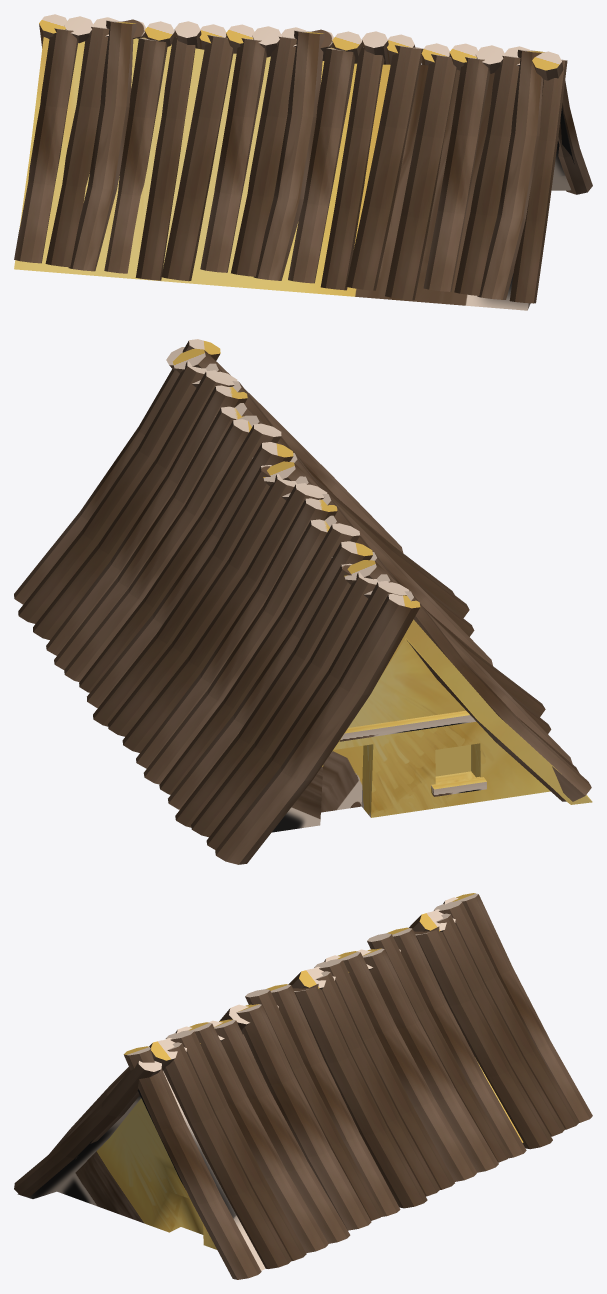
Rendered from house_5.001.fbx.
3 renders of one model, top to bottom at view 1: azimuth 30°, elevation 25°; view 2: azimuth 150°, elevation 25°; view 3: azimuth 270°, elevation 25°, orthographic. The views are drawn at different scales.
Parts seen in each view (by area): view 1: house_5.001; view 2: house_5.001; view 3: house_5.001.
Boxes of the visible parts, x1,y1,x2,y2 form: house_5.001: (14, 14, 592, 310); house_5.001: (14, 339, 592, 864); house_5.001: (14, 893, 592, 1279).
Bounding box in the file's own units: 986 × 363 × 962.
